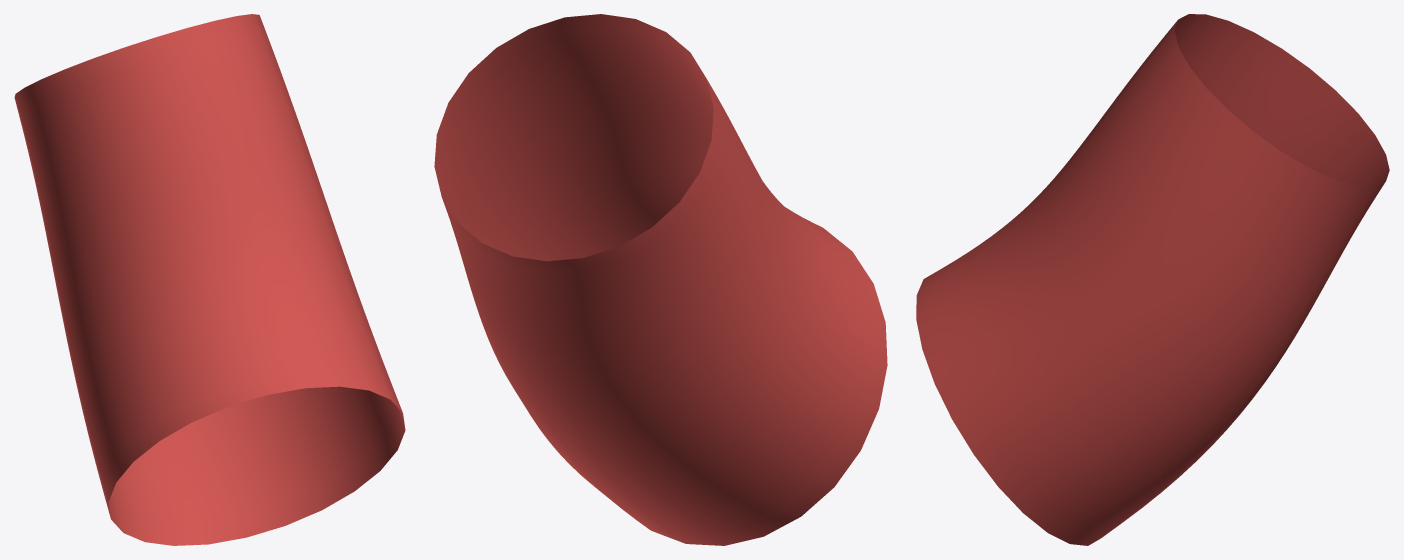
3 renders of one model, left to right at view 1: azimuth 30°, elevation 25°; view 2: azimuth 150°, elevation 25°; view 3: azimuth 270°, elevation 25°, orthographic. The views are drawn at different scales.
Visible parts, largest first — view 1: 左侧髂内动脉后干; view 2: 左侧髂内动脉后干; view 3: 左侧髂内动脉后干.
Boxes of the visible parts, <box> form: 左侧髂内动脉后干: <box>14,14,405,545</box>; 左侧髂内动脉后干: <box>434,14,887,545</box>; 左侧髂内动脉后干: <box>916,14,1389,545</box>.
Size of the model in its own units: 0.00859 by 0.0147 by 0.0126.
